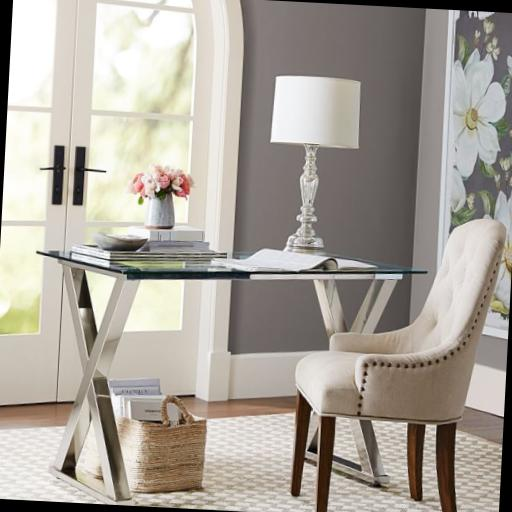Door: (55, 0, 218, 407), (0, 0, 79, 410)
chair: (287, 207, 508, 512)
desk: (22, 238, 427, 512)
wall: (218, 0, 426, 410), (404, 9, 512, 424)
